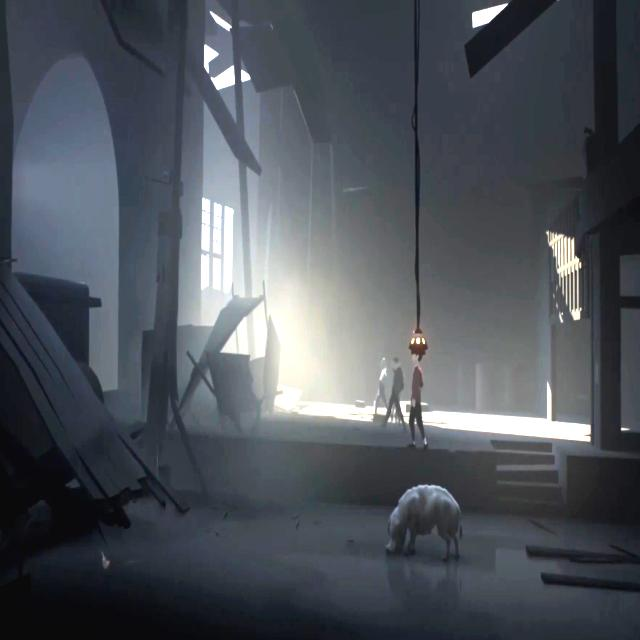boy: (405, 348, 427, 451)
zombie: (388, 358, 404, 432), (375, 357, 387, 417)
